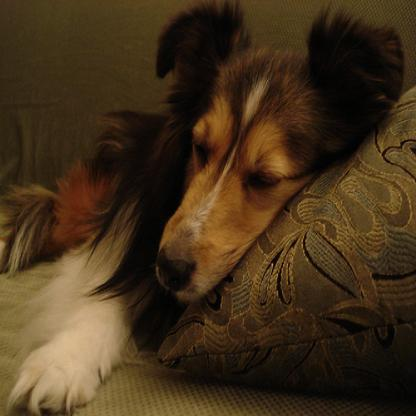Shetland_sheepdog: (3, 0, 404, 414)
